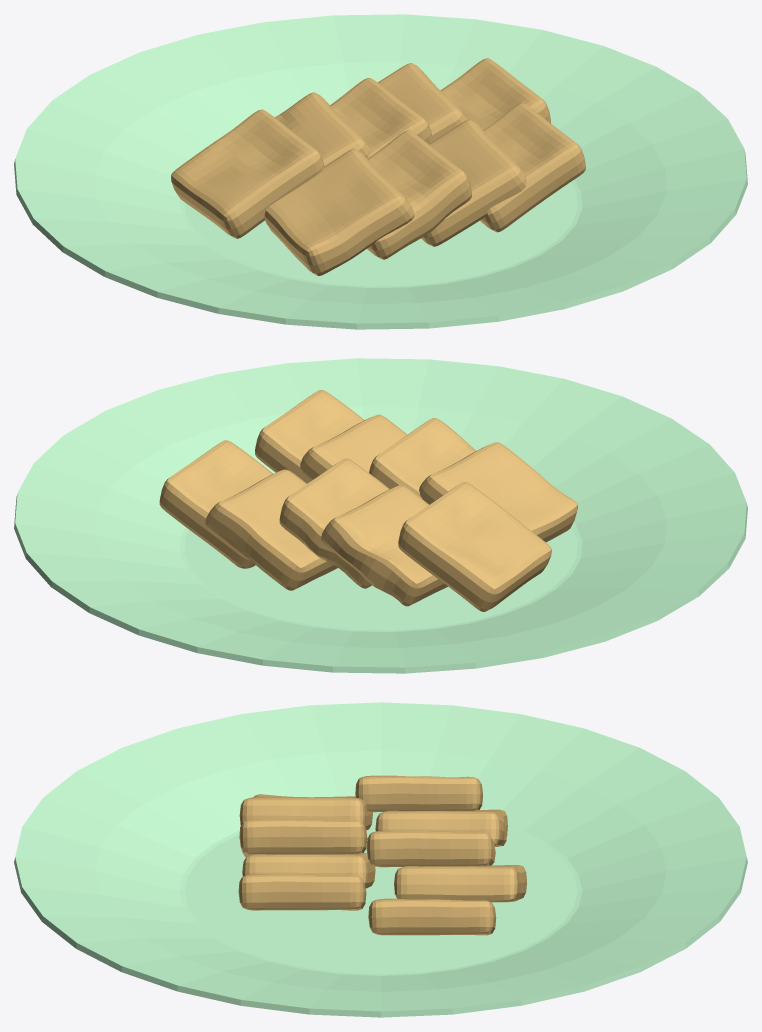
Rendered from fried_tofu.fbx.
3 renders of one model, top to bottom at view 1: azimuth 30°, elevation 25°; view 2: azimuth 150°, elevation 25°; view 3: azimuth 270°, elevation 25°, orthographic.
Visible parts, largest first — view 1: 원형.019, 큐브.020, 큐브.025, 큐브.028, 큐브.026, 큐브.027, 큐브.022, 큐브.024, 큐브.021, 큐브.023; view 2: 원형.019, 큐브.020, 큐브.021, 큐브.023, 큐브.025, 큐브.024, 큐브.022, 큐브.026, 큐브.028, 큐브.027; view 3: 원형.019, 큐브.023, 큐브.024, 큐브.026, 큐브.022, 큐브.028, 큐브.020, 큐브.025, 큐브.021, 큐브.027.
Boxes of the visible parts, x1,y1,x2,y2 form: 원형.019: (14, 14, 747, 329); 큐브.020: (171, 109, 324, 238); 큐브.025: (264, 149, 414, 276); 큐브.028: (367, 130, 471, 259); 큐브.026: (480, 103, 585, 232); 큐브.027: (421, 119, 526, 246); 큐브.022: (330, 78, 432, 158); 큐브.024: (440, 58, 550, 129); 큐브.021: (274, 92, 370, 166); 큐브.023: (378, 63, 467, 140); 원형.019: (14, 358, 747, 673); 큐브.020: (398, 482, 551, 611); 큐브.021: (321, 485, 447, 606); 큐브.023: (205, 469, 337, 590); 큐브.025: (419, 442, 577, 542); 큐브.024: (159, 440, 273, 568); 큐브.022: (279, 458, 389, 588); 큐브.026: (255, 390, 364, 483); 큐브.028: (369, 418, 475, 498); 큐브.027: (300, 414, 407, 480); 원형.019: (14, 702, 747, 1017); 큐브.023: (394, 865, 526, 902); 큐브.024: (368, 898, 496, 935); 큐브.026: (238, 874, 366, 910); 큐브.022: (366, 830, 495, 867); 큐브.028: (239, 819, 367, 856); 큐브.020: (355, 775, 482, 812); 큐브.025: (239, 794, 372, 830); 큐브.021: (375, 809, 507, 846); 큐브.027: (242, 853, 375, 888).
Size of the model in its own units: 251 by 36.31 by 251.
